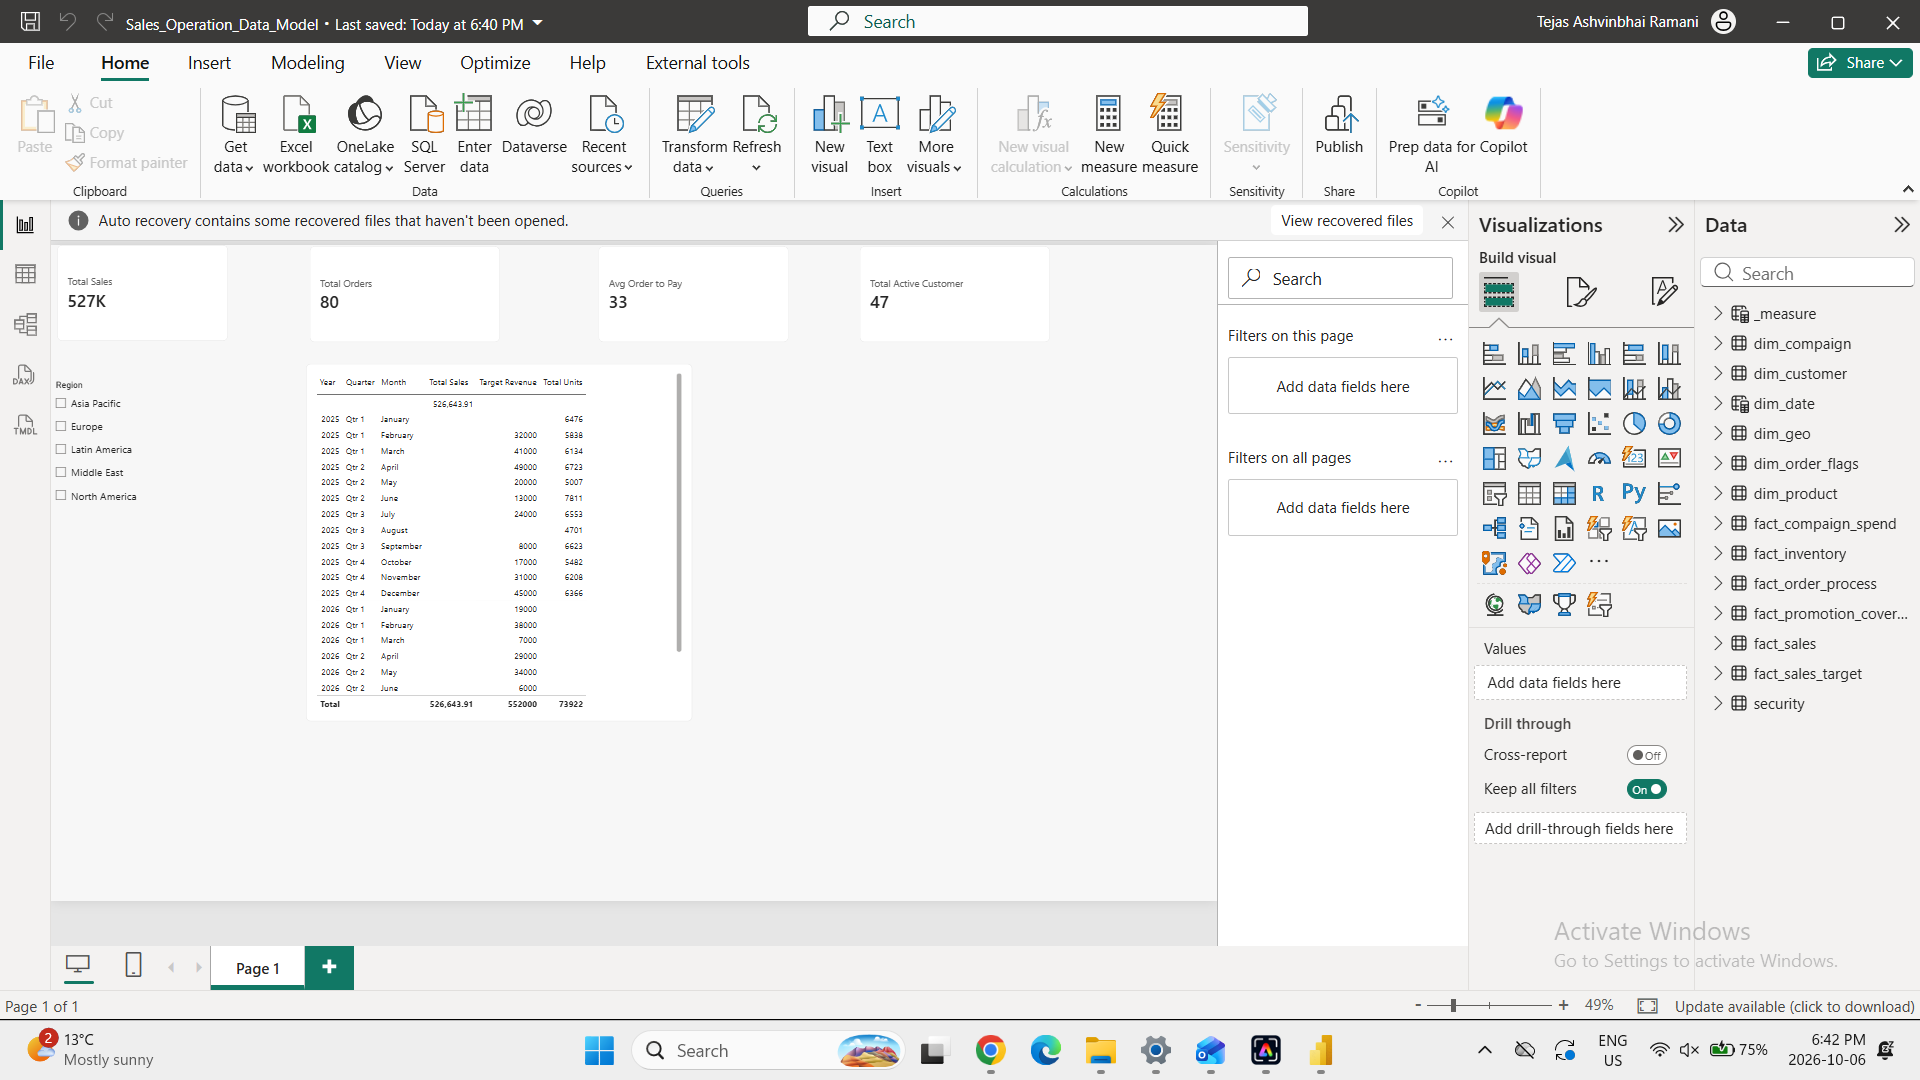

The page's visual inventory and layout, read from the dashboard file:
{"tool":"powerbi","page":{"name":"Page 1","canvas":[1920,1080],"ordinal":0},"visuals":[{"type":"tableEx","fields":{"Values":["dim_date.Date.Variation.Date Hierarchy.Year","dim_date.Date.Variation.Date Hierarchy.Quarter","dim_date.Date.Variation.Date Hierarchy.Month","Sum(fact_sales.line_total)","Sum(fact_sales_target.target_revenue)","Sum(fact_inventory.units)"]},"box":[419.9,195.5,636,588.7],"z":0},{"type":"cardVisual","fields":{"Data":["_measure.total_sales"]},"box":[10.3,0,282,158.5],"z":1000},{"type":"cardVisual","fields":{"Data":["_measure.total_orders"]},"box":[426.1,2.1,313,158],"z":2000},{"type":"cardVisual","fields":{"Data":["_measure.average_order_to_pay"]},"box":[901.5,2.1,313,158],"z":3000},{"type":"cardVisual","fields":{"Data":["_measure.total_active_customer"]},"box":[1331.7,2.1,313,158],"z":4000},{"type":"slicer","fields":{"Values":["dim_customer.region"]},"box":[0,222.3,179.1,666.9],"z":5000}]}

Visuals, with their boxes on the page's 1920x1080 design canvas (x1, y1, x2, y2). These are canvas units, not pixel positions in the 1920x1080 screenshot, which may show the page scaled, cropped or inside an application window:
tableEx - dim_date.Date.Variation.Date Hierarchy.Year x dim_date.Date.Variation.Date Hierarchy.Quarter: 420 196 1056 784
cardVisual - _measure.total_sales: 10 0 292 158
cardVisual - _measure.total_orders: 426 2 739 160
cardVisual - _measure.average_order_to_pay: 902 2 1214 160
cardVisual - _measure.total_active_customer: 1332 2 1645 160
slicer - dim_customer.region: 0 222 179 889
